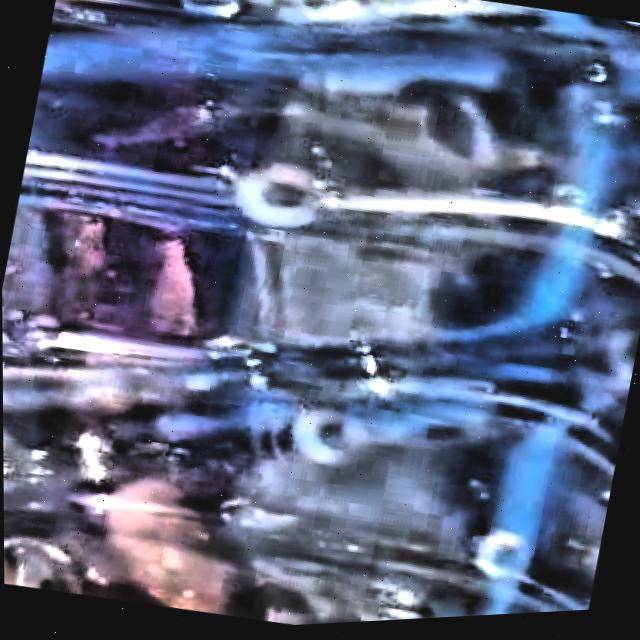plastic: (2, 0, 640, 628)
